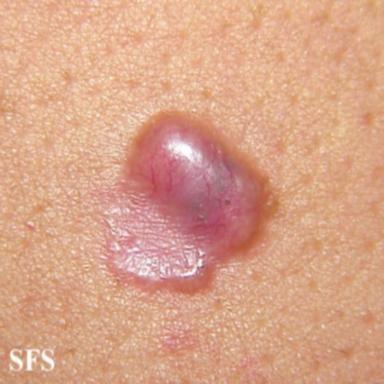basal-cell-carcinoma: (103, 113, 276, 294)
